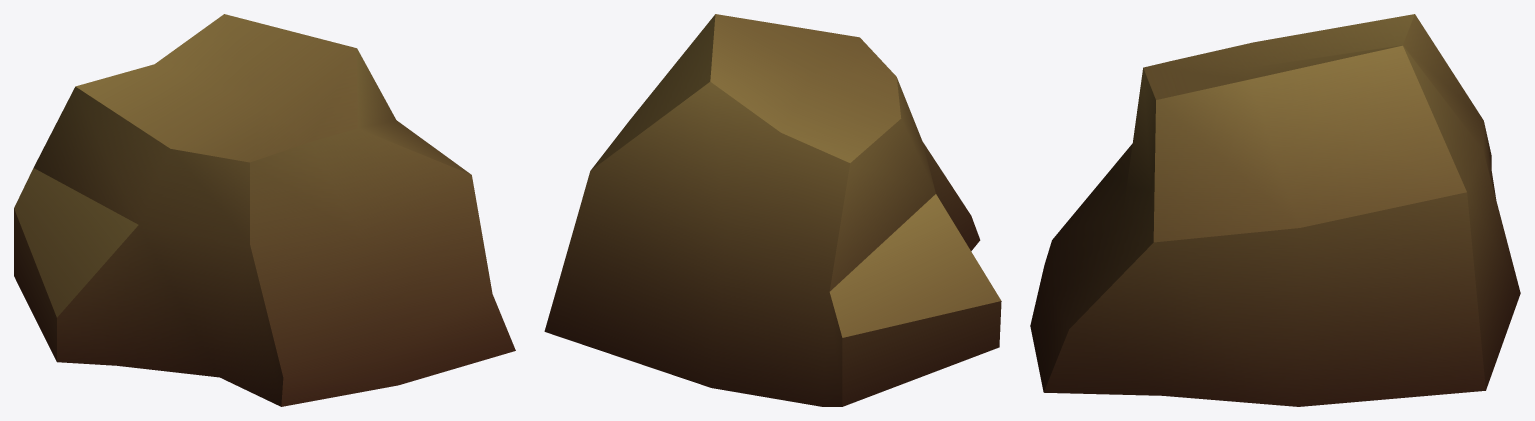
Rendered from Enviroment__Batu_Besar_002.fbx.
3 views of the same model, side by side, from view 1: azimuth 30°, elevation 25°; view 2: azimuth 150°, elevation 25°; view 3: azimuth 270°, elevation 25° (orthographic). The views are drawn at different scales.
Parts seen in each view (by area): view 1: Cube.011; view 2: Cube.011; view 3: Cube.011.
Boxes of the visible parts, bbox=[...] form: Cube.011: bbox=[14, 14, 515, 406]; Cube.011: bbox=[544, 14, 1001, 406]; Cube.011: bbox=[1030, 14, 1520, 406].
Size of the model in its own units: 20 by 12.5 by 20.
